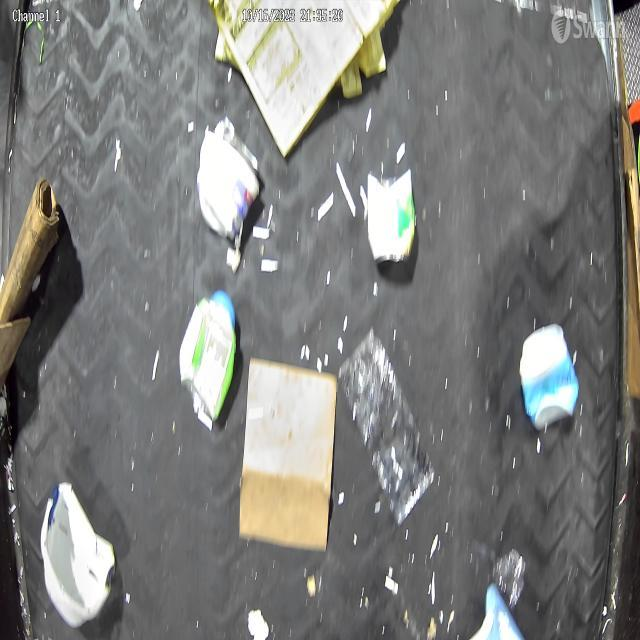can: (198, 117, 260, 243), (367, 167, 415, 267)
